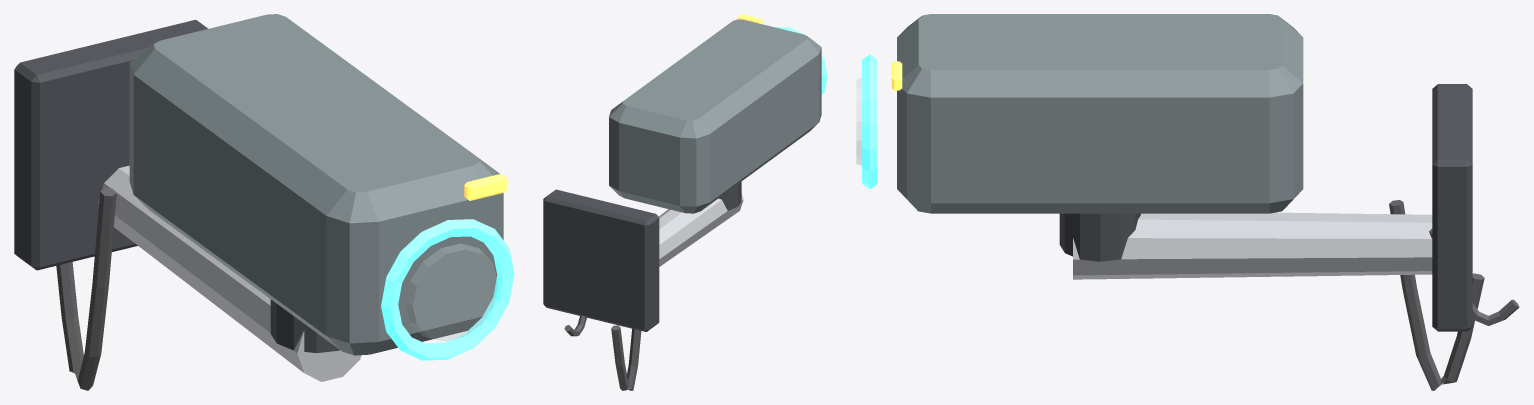
The model's file is cyberpunk-apartment-and-neon-block-camera-on-mount-df549d71__37835.glb.
3 views of the same model, side by side, from view 1: azimuth 30°, elevation 25°; view 2: azimuth 150°, elevation 25°; view 3: azimuth 270°, elevation 25° (orthographic). The views are drawn at different scales.
Parts seen in each view (by area): view 1: head/paint, camera-on-mount, head/glass, head/cyan, head/amber; view 2: head/paint, camera-on-mount, head/cyan; view 3: head/paint, camera-on-mount, head/cyan.
Part boxes in pixels (x1,y1,x2,y2): head/paint: (129,14,503,355); camera-on-mount: (14,19,361,390); head/glass: (406,244,497,340); head/cyan: (381,219,514,360); head/amber: (464,173,507,200); head/paint: (609,19,821,213); camera-on-mount: (543,181,743,390); head/cyan: (775,27,827,94); head/paint: (897,14,1303,213); camera-on-mount: (1059,84,1519,390); head/cyan: (862,54,877,189).
Bounding box in the file's own units: 0.14 × 0.2978 × 0.4896.
